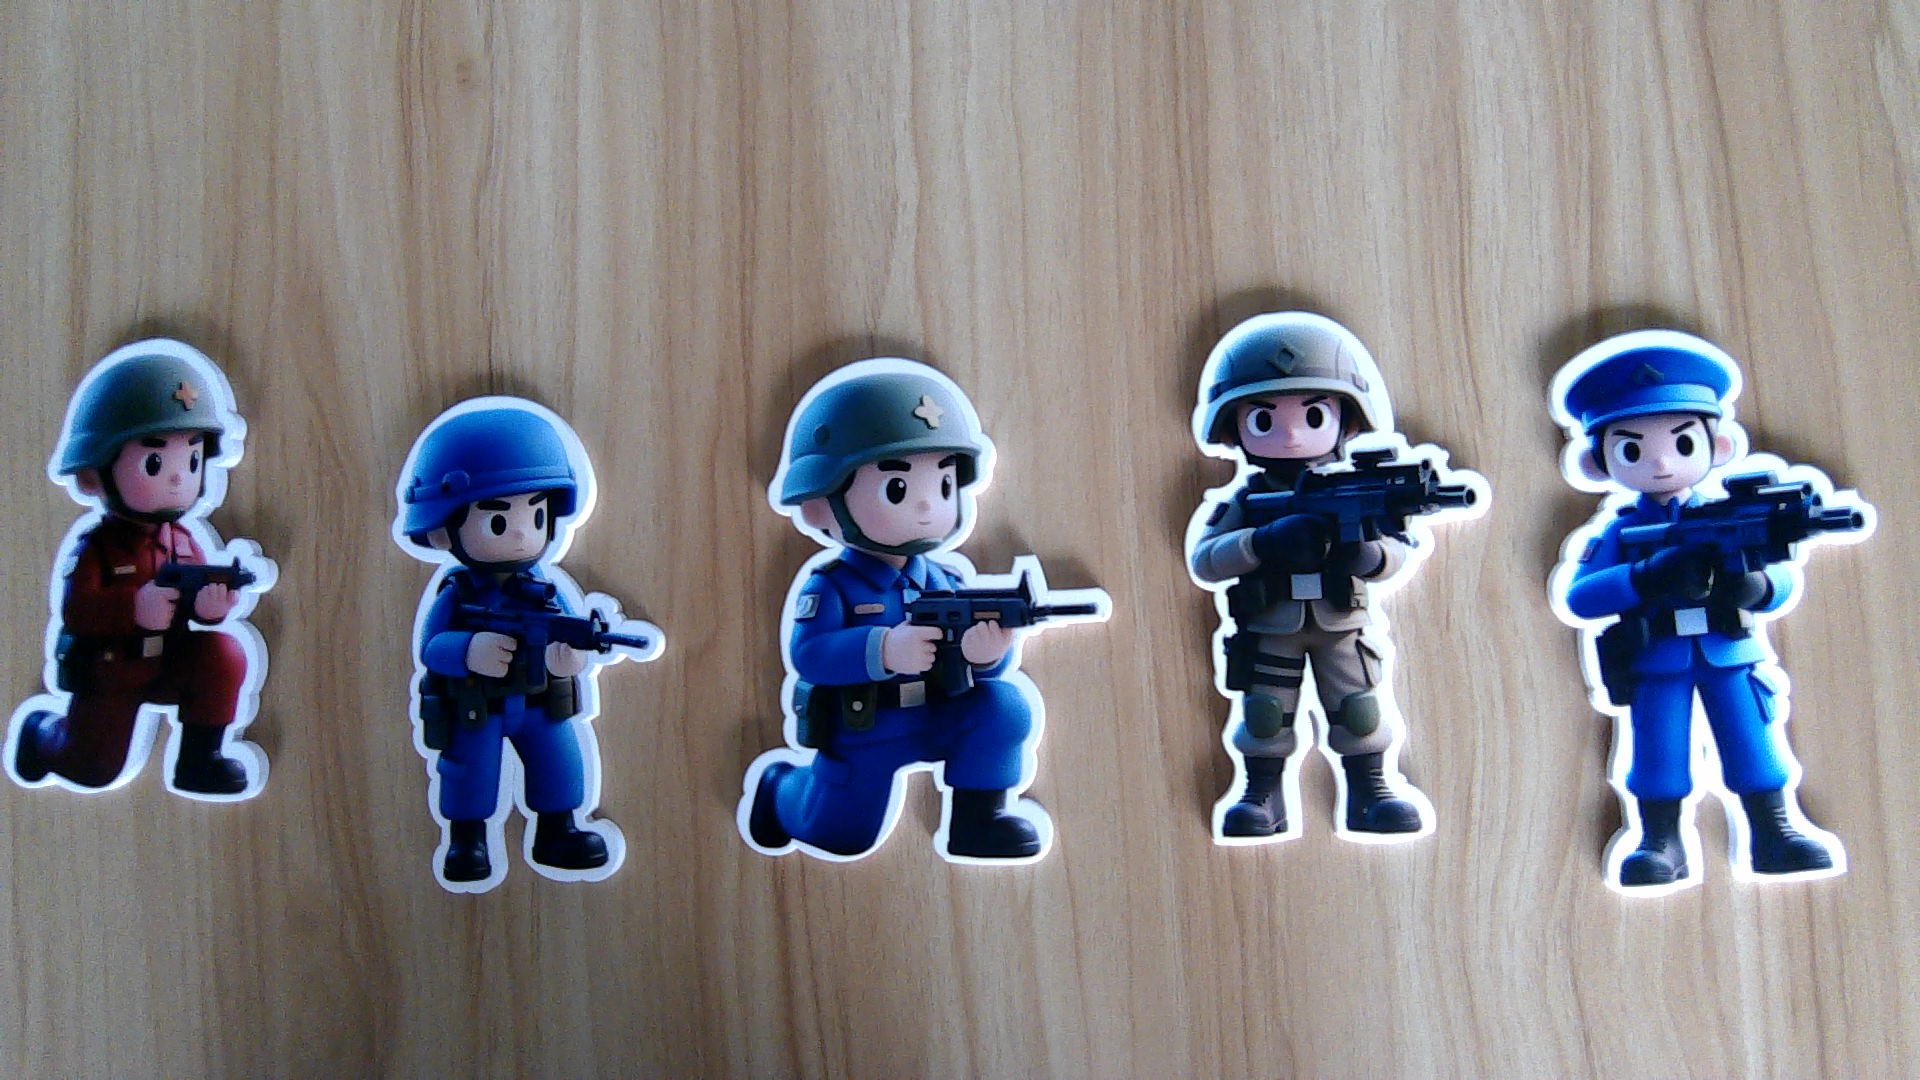友军: (1178, 459, 1478, 852)
敌人1: (8, 522, 278, 810)
敌人2: (1547, 492, 1871, 897), (735, 555, 1106, 885), (401, 567, 650, 891)
